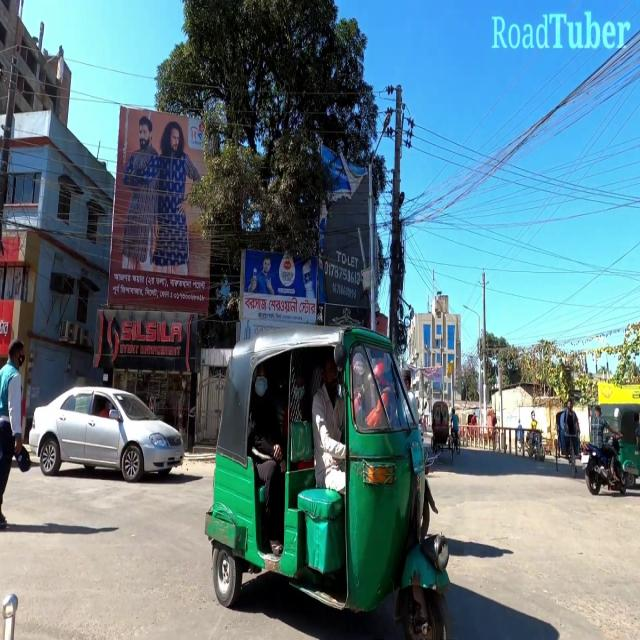white: (28, 378, 187, 484)
